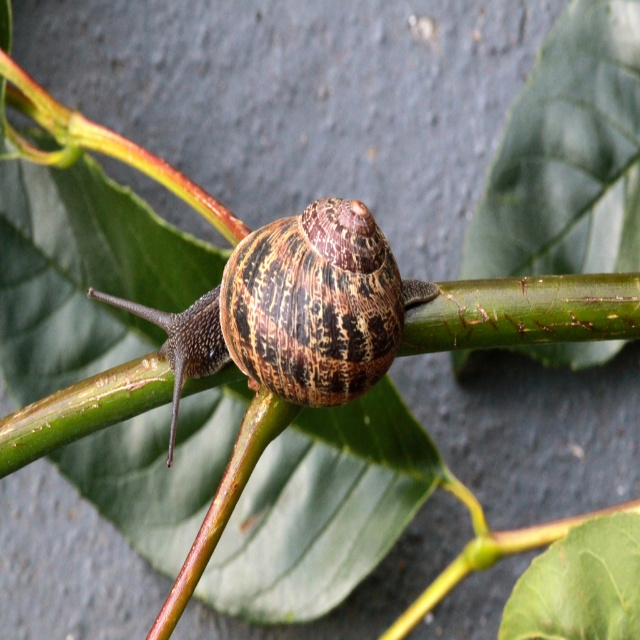Snail: (88, 189, 439, 467)
